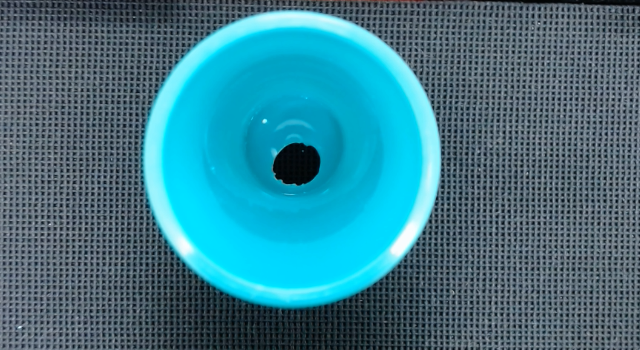hole: (272, 143, 321, 185)
